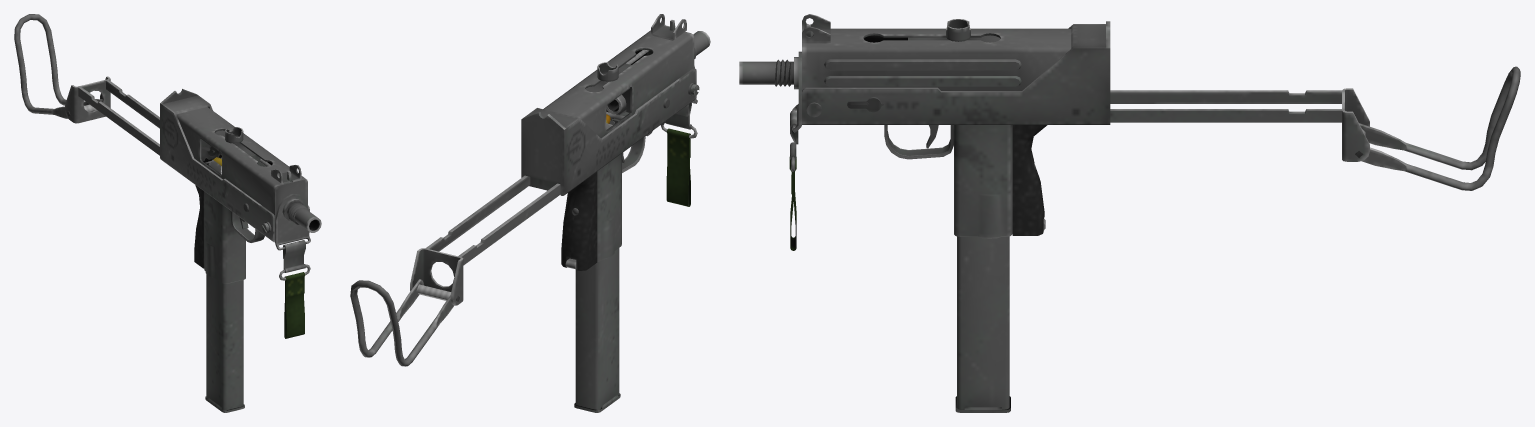
File: mac_10.obj
3 renders of one model, left to right at view 1: azimuth 30°, elevation 25°; view 2: azimuth 150°, elevation 25°; view 3: azimuth 270°, elevation 25°, orthographic. The views are drawn at different scales.
Parts seen in each view (by area): view 1: Gun_grip_Low, Gun_Low, Magazine30rnd_Low, Stock_Low, Stock_wire_Low, Belt_fabric_Low, Belt_holder_Low, Barrel_Low, Sldie_Low, Belt_holder_2_Low, Grip_Low, Iron_sight_Low; view 2: Gun_grip_Low, Magazine30rnd_Low, Gun_Low, Stock_Low, Grip_Low, Stock_wire_Low, Belt_fabric_Low, Sldie_Low, Barrel_Low, Iron_sight_Low, Belt_holder_2_Low, Stock_spring_Low; view 3: Gun_grip_Low, Gun_Low, Magazine30rnd_Low, Stock_Low, Stock_wire_Low, Grip_Low, Barrel_Low, Sldie_Low, Iron_sight_Low.
Boxes of the visible parts, bbox=[...] form: Gun_grip_Low: bbox=[160, 89, 309, 283]; Gun_Low: bbox=[176, 107, 307, 218]; Magazine30rnd_Low: bbox=[205, 157, 244, 412]; Stock_Low: bbox=[65, 76, 159, 155]; Stock_wire_Low: bbox=[14, 14, 102, 118]; Belt_fabric_Low: bbox=[284, 272, 304, 338]; Belt_holder_Low: bbox=[275, 194, 310, 250]; Barrel_Low: bbox=[282, 198, 321, 232]; Sldie_Low: bbox=[201, 127, 267, 166]; Belt_holder_2_Low: bbox=[279, 240, 310, 280]; Grip_Low: bbox=[194, 185, 204, 268]; Iron_sight_Low: bbox=[271, 165, 301, 184]; Gun_grip_Low: bbox=[521, 68, 696, 261]; Magazine30rnd_Low: bbox=[574, 123, 620, 412]; Gun_Low: bbox=[543, 20, 694, 138]; Stock_Low: bbox=[410, 175, 560, 305]; Grip_Low: bbox=[561, 171, 597, 270]; Stock_wire_Low: bbox=[350, 279, 454, 366]; Belt_fabric_Low: bbox=[666, 128, 690, 206]; Sldie_Low: bbox=[585, 62, 631, 112]; Barrel_Low: bbox=[606, 31, 710, 114]; Iron_sight_Low: bbox=[651, 14, 686, 40]; Belt_holder_2_Low: bbox=[660, 102, 697, 138]; Stock_spring_Low: bbox=[416, 284, 451, 300]; Gun_grip_Low: bbox=[802, 21, 1110, 238]; Gun_Low: bbox=[802, 24, 1071, 90]; Magazine30rnd_Low: bbox=[955, 236, 1010, 412]; Stock_Low: bbox=[1110, 88, 1369, 161]; Stock_wire_Low: bbox=[1359, 66, 1520, 190]; Grip_Low: bbox=[1012, 125, 1047, 235]; Barrel_Low: bbox=[739, 57, 798, 89]; Sldie_Low: bbox=[908, 19, 999, 42]; Iron_sight_Low: bbox=[802, 14, 830, 43].
Bounding box in the file's own units: 0.0915 × 0.56 × 1.03.
